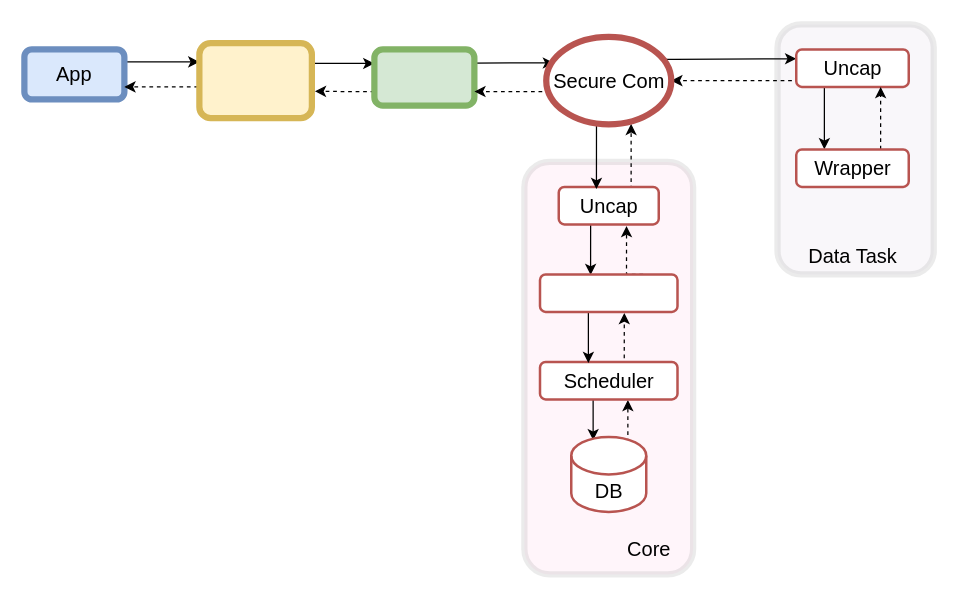
The diagram is 959 pixels wide and 599 high, and some of its shapes have lost their labels. The shapes that lost their labels are listed below. From the top down, each one's centre as x and y in pixels, then its label:
At point 255,80: "Control Module".
At point 424,77: "DTB".
At point 608,292: "Filtering".
